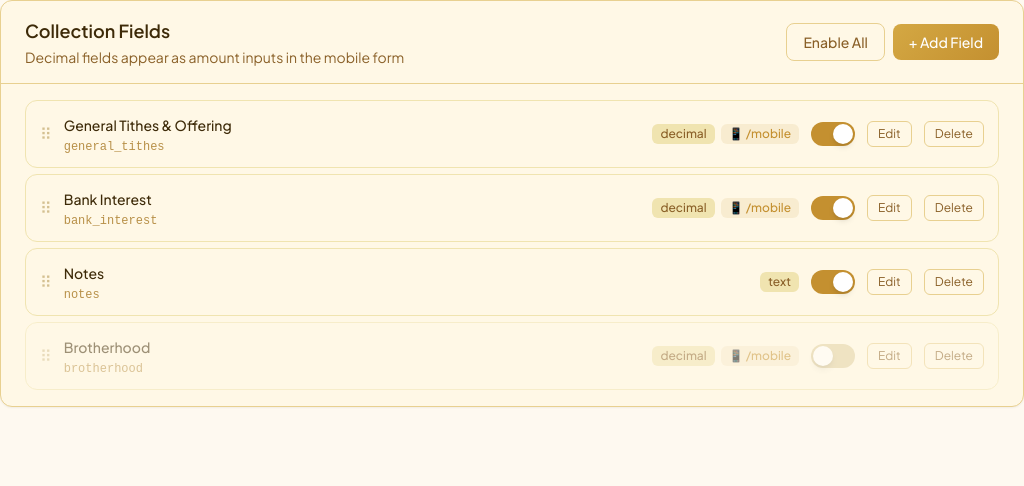
Scenario: bulk toggle reverts to previous state on API error
The width and height of the screenshot is (1024, 486).
Check: the text "General Tithes & Offering" is shown, box [64,116,232,134]
What coordinates should you click on to do the following:
click the button "Enable All"
I would click on:
 (836, 42)
Its box is [786,23,885,61].
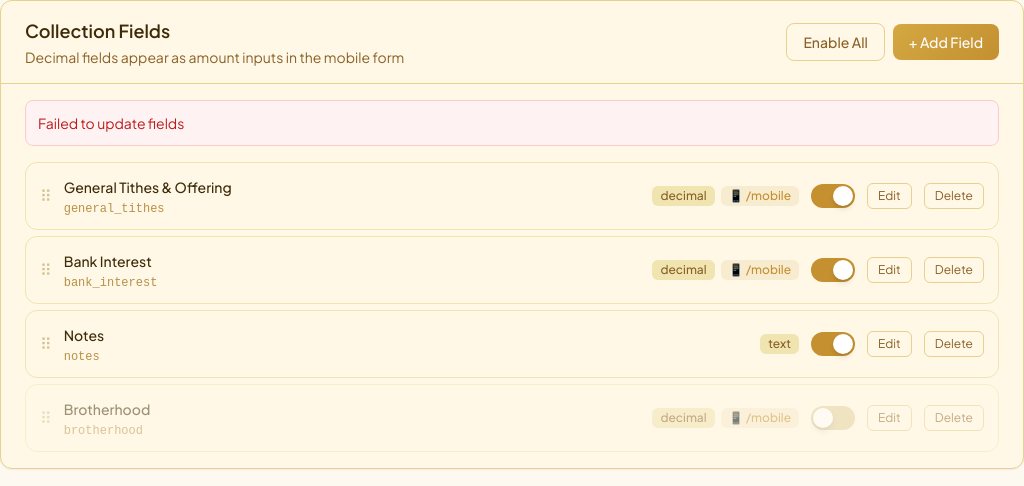
Check: the text "Failed to update fields" is shown, box [25,100,999,146]
